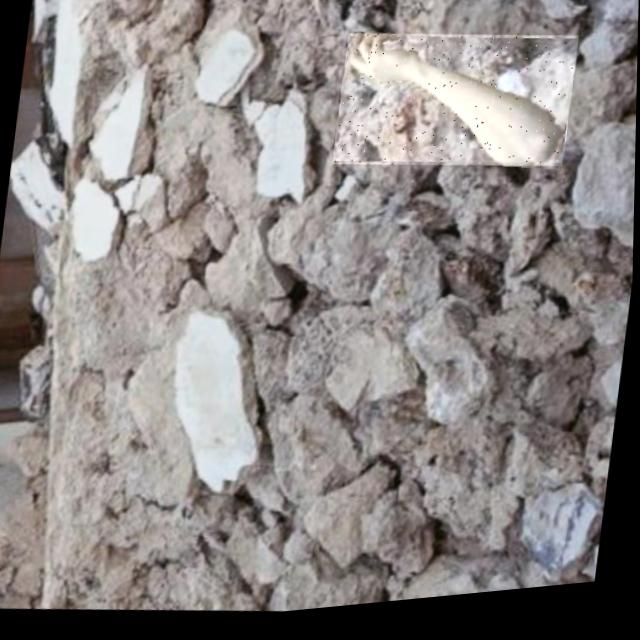Person in Rubble: (333, 22, 579, 194)
